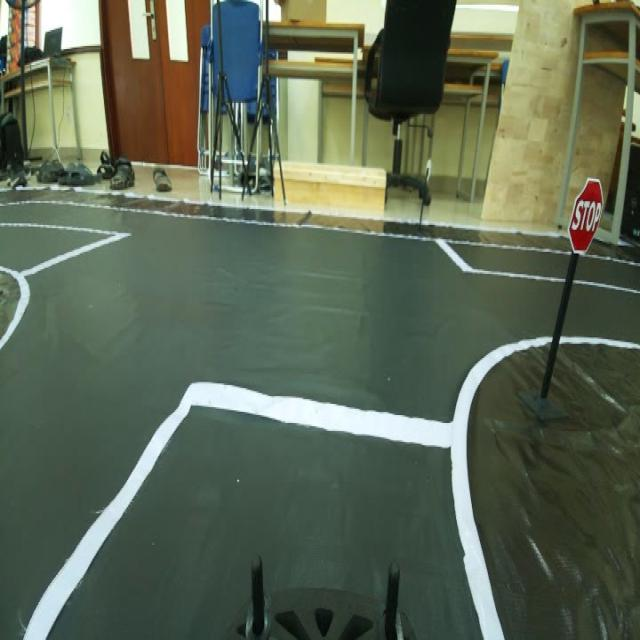stop: (569, 169, 604, 257)
